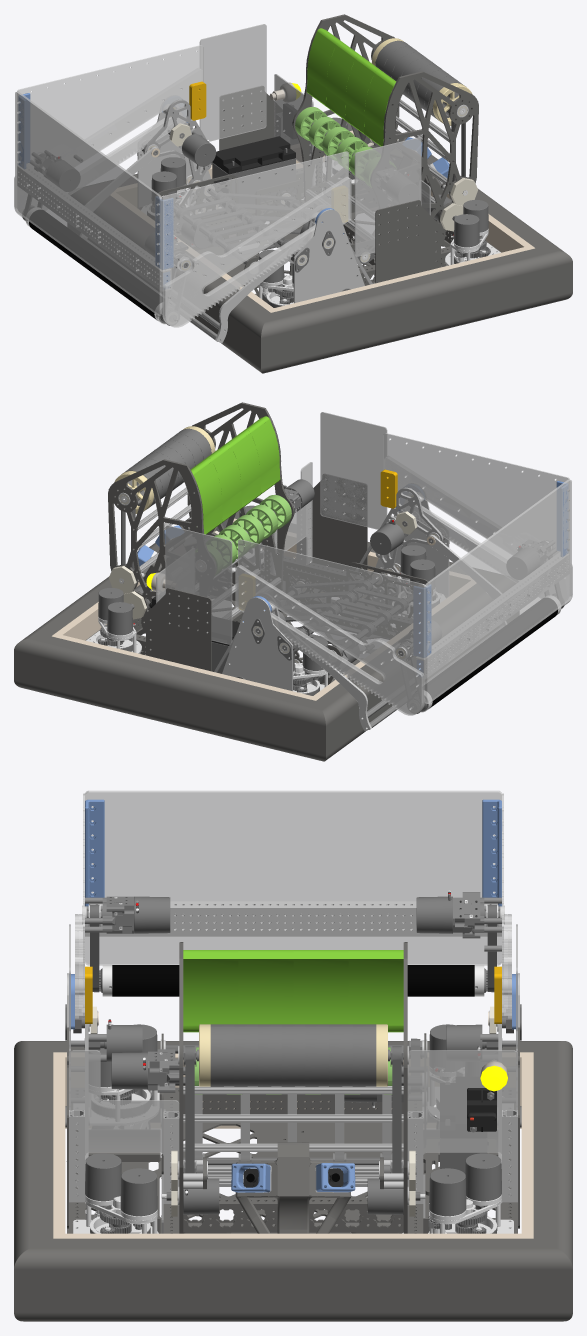
3 renders of one model, top to bottom at view 1: azimuth 30°, elevation 25°; view 2: azimuth 150°, elevation 25°; view 3: azimuth 270°, elevation 25°, orthographic. The views are drawn at different scales.
Visible parts, largest first — view 1: Bumpers, Front plate, Side plate, Side plate.001, Polycarb gear rack.003, Hopper side plate.001, Polycarb gear rack.001, Part 14, Hopper side plate, Hopper Plate + Ramp Plate.001, Tube 2"x1"x26.5", Outer plate (+37 smaller); view 2: Bumpers, Front plate, Side plate.001, Side plate, Polycarb gear rack, Hopper side plate, Polycarb gear rack.002, Part 14.001, Hopper side plate.001, Hopper Plate + Ramp Plate.001, Hopper Plate + Ramp Plate, Tube 2"x1"x26.5" (+36 smaller); view 3: Bumpers, Front plate, Tube 2"x1"x26.5", Bumper Wood, Breaker/RSL/Sb120 plate, Motor cutout plate, Camera mount v3, BP Center, Roller tape thingy, Part 16, Part 16.001, Part 16.002 (+49 smaller).
Boxes of the visible parts, box(x1,y1,x2,y2) form: Bumpers: box(67, 122, 572, 373); Front plate: box(15, 91, 161, 315); Side plate: box(17, 45, 203, 216); Side plate.001: box(162, 151, 348, 322); Polycarb gear rack.003: box(164, 177, 351, 327); Hopper side plate.001: box(199, 24, 266, 141); Polycarb gear rack.001: box(162, 176, 349, 326); Part 14: box(370, 71, 478, 263); Hopper side plate: box(354, 137, 421, 256); Hopper Plate + Ramp Plate.001: box(375, 200, 440, 283); Tube 2"x1"x26.5": box(17, 164, 171, 291); Outer plate: box(294, 209, 364, 303); Bumpers: box(14, 510, 519, 761); Front plate: box(425, 479, 571, 703); Side plate.001: box(383, 433, 569, 604); Side plate: box(238, 539, 424, 710); Polycarb gear rack: box(235, 565, 422, 715); Hopper side plate: box(320, 412, 387, 529); Polycarb gear rack.002: box(237, 564, 424, 714); Part 14.001: box(108, 459, 216, 651); Hopper side plate.001: box(165, 525, 232, 644); Hopper Plate + Ramp Plate.001: box(311, 474, 367, 575); Hopper Plate + Ramp Plate: box(146, 588, 211, 671); Tube 2"x1"x26.5": box(415, 552, 569, 678); Bumpers: box(14, 1041, 572, 1321); Front plate: box(85, 790, 501, 965); Tube 2"x1"x26.5": box(85, 901, 501, 936); Bumper Wood: box(53, 1052, 533, 1238); Breaker/RSL/Sb120 plate: box(407, 1050, 517, 1190); Motor cutout plate: box(69, 1050, 179, 1190); Camera mount v3: box(235, 1142, 350, 1233); BP Center: box(161, 1122, 403, 1233); Roller tape thingy: box(112, 965, 474, 996); Part 16: box(348, 950, 403, 1032); Part 16.001: box(183, 950, 238, 1032); Part 16.002: box(238, 950, 293, 1024).
Bounding box in the file's own units: 104 × 55.86 × 90.17.
